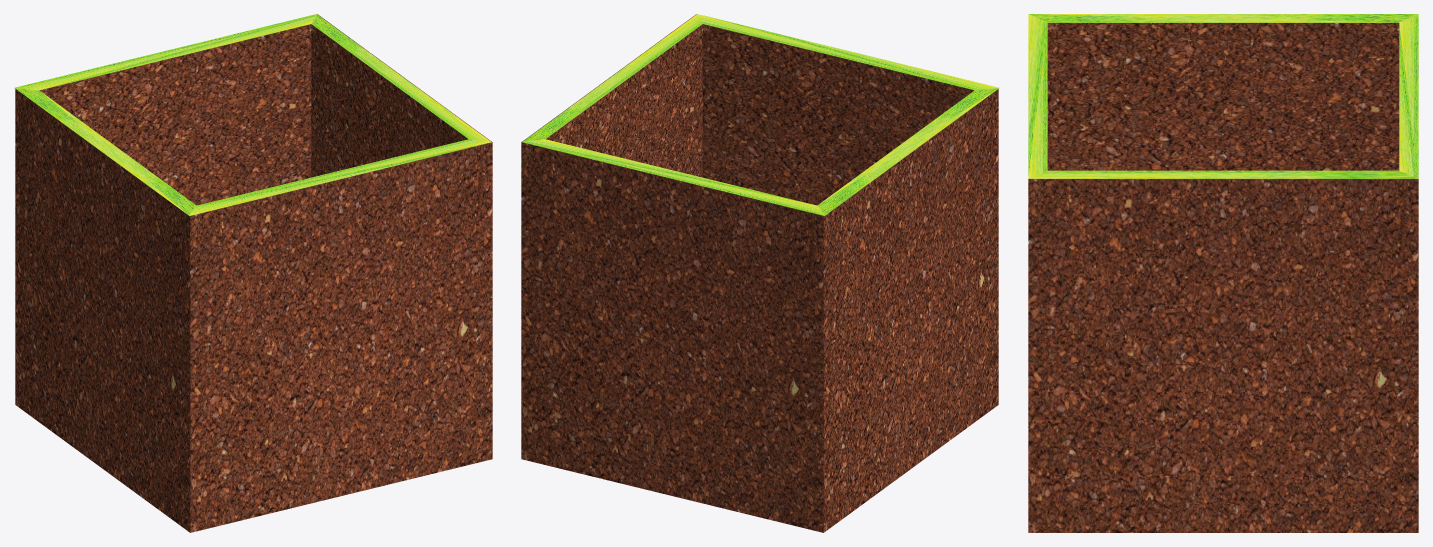
File: hole.glb
3 views of the same model, side by side, from view 1: azimuth 30°, elevation 25°; view 2: azimuth 150°, elevation 25°; view 3: azimuth 270°, elevation 25° (orthographic). The views are drawn at different scales.
Parts seen in each view (by area): view 1: Box & Box 1, Box 2 & Box 1; view 2: Box & Box 1, Box 2 & Box 1; view 3: Box & Box 1, Box 2 & Box 1.
Boxes of the visible parts, bbox=[...] form: Box & Box 1: bbox=[15, 14, 492, 532]; Box 2 & Box 1: bbox=[14, 14, 491, 215]; Box & Box 1: bbox=[521, 14, 998, 532]; Box 2 & Box 1: bbox=[522, 14, 999, 215]; Box & Box 1: bbox=[1028, 23, 1418, 532]; Box 2 & Box 1: bbox=[1028, 14, 1418, 178].
Bounding box in the file's own units: 1 × 1 × 1.
2 materials, 2 textured.
